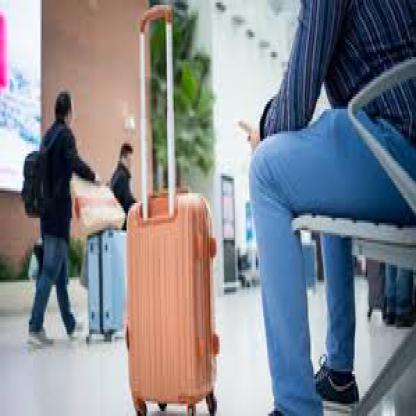maleta: (116, 183, 230, 414), (79, 216, 135, 356)
morral: (20, 146, 56, 235)
person: (230, 2, 411, 414), (24, 82, 89, 362), (107, 124, 141, 225)
